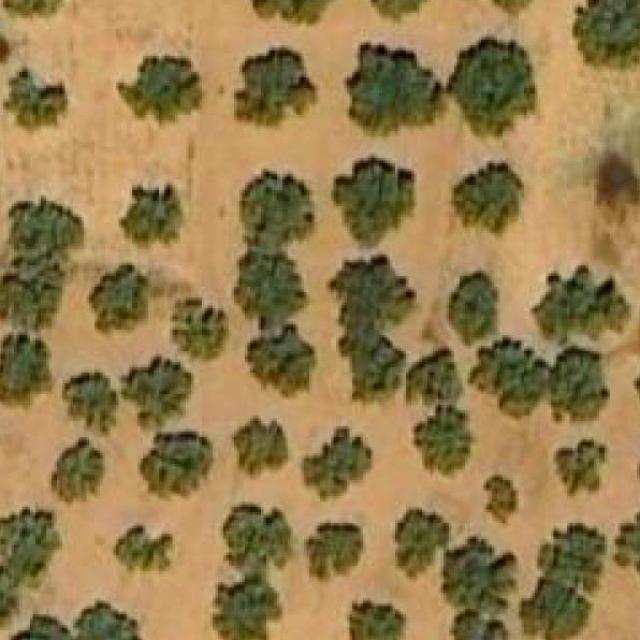Tree: (449, 38, 535, 138), (347, 40, 441, 131), (231, 40, 322, 131), (333, 156, 417, 247), (532, 265, 628, 344), (115, 52, 204, 126), (440, 532, 519, 612), (338, 319, 406, 399), (300, 426, 370, 502), (240, 252, 310, 328), (8, 195, 84, 260), (476, 344, 546, 414), (572, 0, 640, 72), (220, 505, 293, 572), (89, 263, 152, 338), (236, 174, 312, 236), (140, 432, 212, 496), (451, 163, 521, 228), (118, 182, 183, 252), (127, 356, 189, 429), (213, 576, 283, 640), (247, 327, 315, 392), (413, 404, 472, 474), (347, 258, 411, 322), (0, 261, 65, 324), (3, 69, 68, 131), (392, 506, 449, 576), (172, 297, 231, 362), (544, 528, 602, 593), (446, 274, 499, 344), (306, 523, 363, 587), (0, 514, 57, 577), (231, 419, 290, 478), (529, 577, 585, 639), (0, 335, 49, 405), (556, 437, 608, 502), (52, 439, 103, 502), (553, 359, 601, 421), (73, 600, 146, 640), (113, 526, 172, 575), (66, 376, 112, 435), (406, 349, 454, 403), (347, 601, 409, 640), (615, 507, 640, 593), (360, 0, 440, 24), (3, 614, 76, 640), (483, 475, 519, 523), (449, 611, 508, 640), (254, 0, 334, 20), (0, 0, 63, 18), (467, 0, 551, 13), (0, 571, 9, 628)
